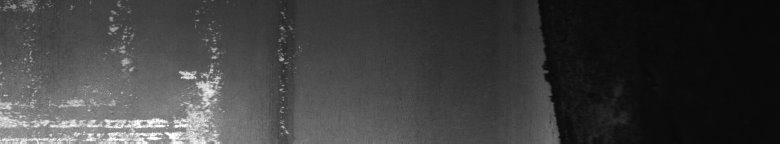kb: (4, 4, 296, 136)
